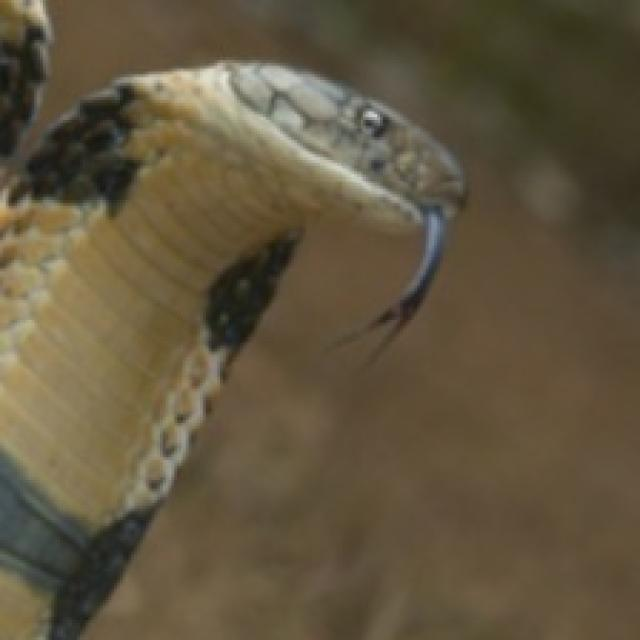king cobra: (0, 0, 463, 637)
